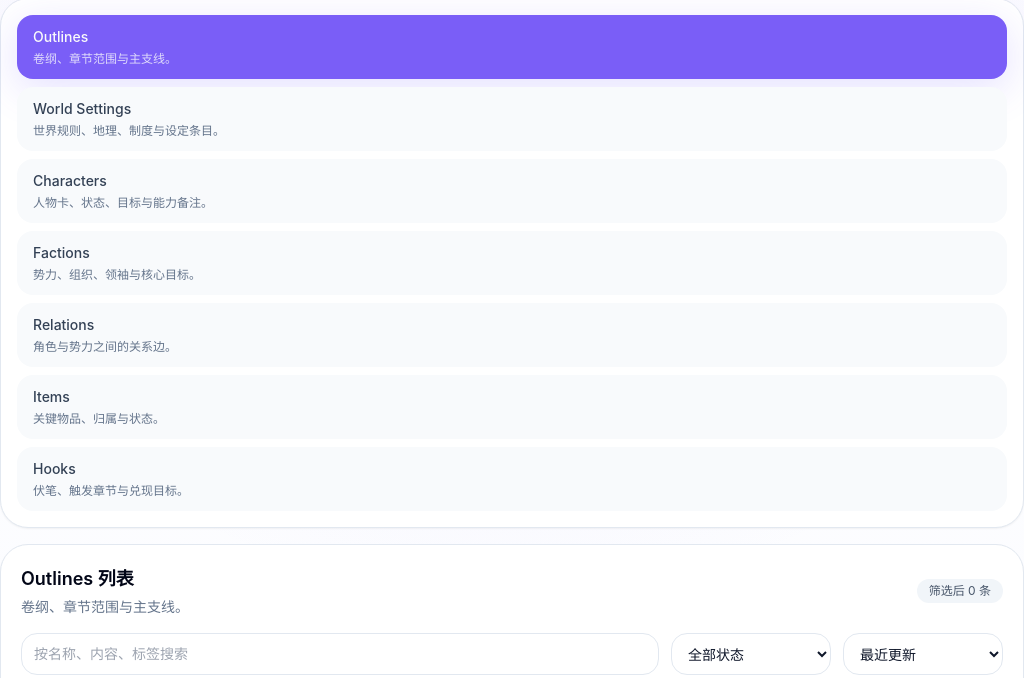
Test: ResourcesPage › shows localized status on other resource cards
Click the button "Characters 人物卡、状态、目标与能力备注。": (70, 180) [17,159,1007,223]
(page scrolled)
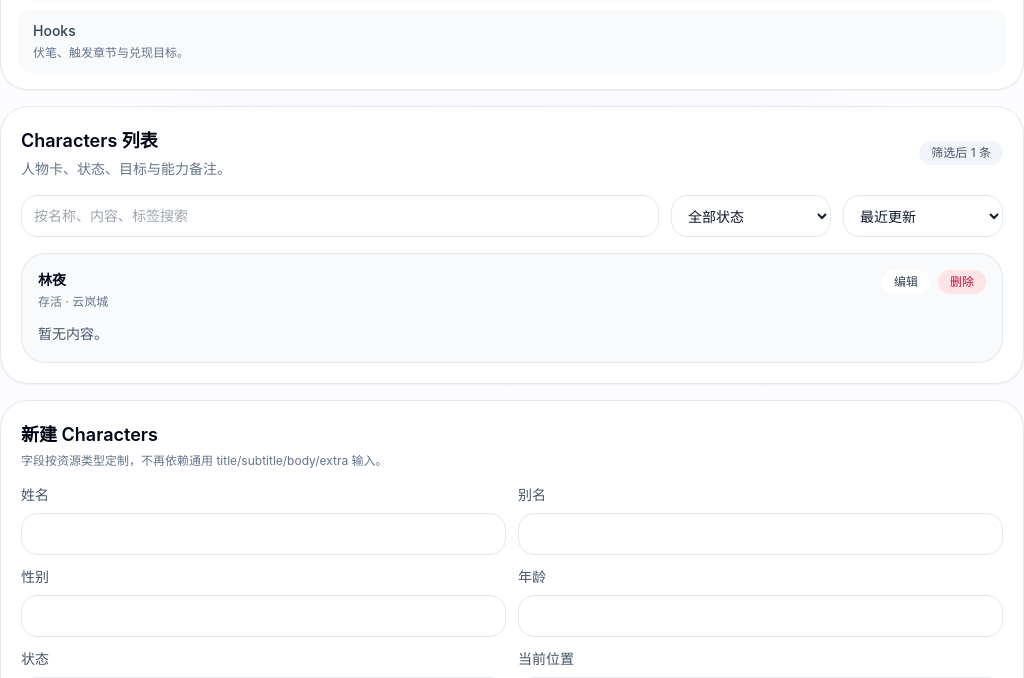
Result: the text "存活 · 云岚城" is shown at [38,294,108,310]
